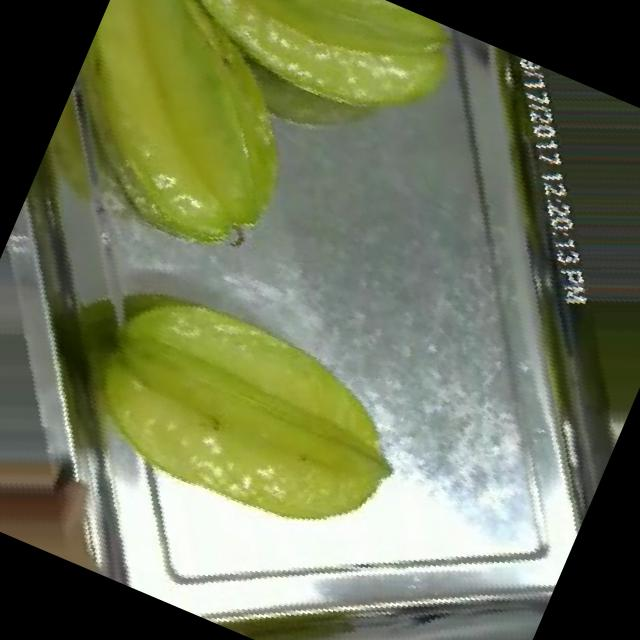fruit: (0, 180, 480, 628), (15, 0, 405, 327), (100, 0, 497, 215), (475, 211, 640, 529)
